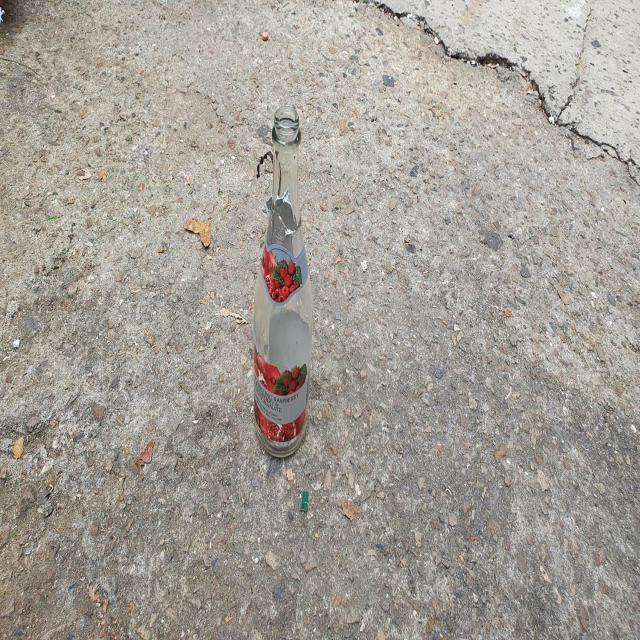glass: (253, 105, 313, 457)
